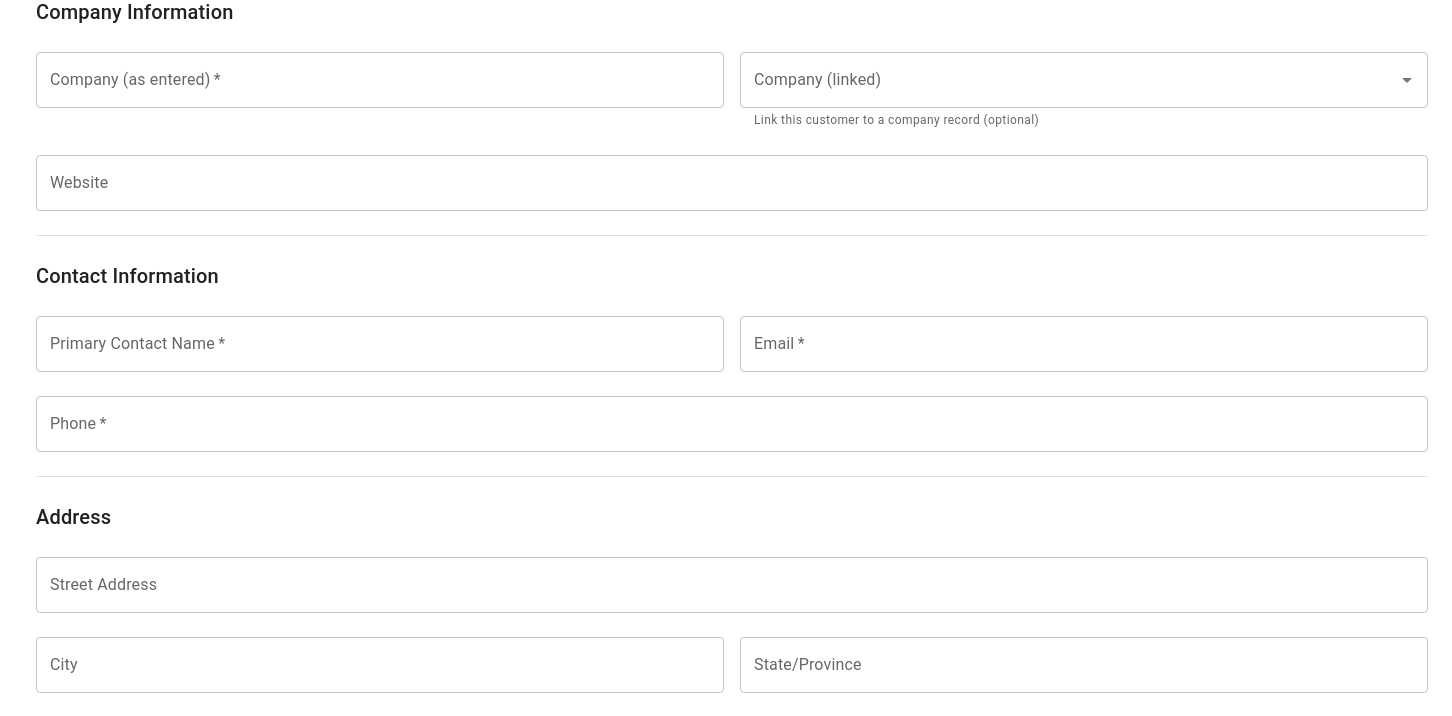
Test: CustomerForm linked company › create mode › puts an INVALID_REFERENCE message on the linked-company picker
The width and height of the screenshot is (1452, 716).
Press the mouse on the dropdown labelled "Company (linked)" at (1069, 80), box [749,61,1389,99]
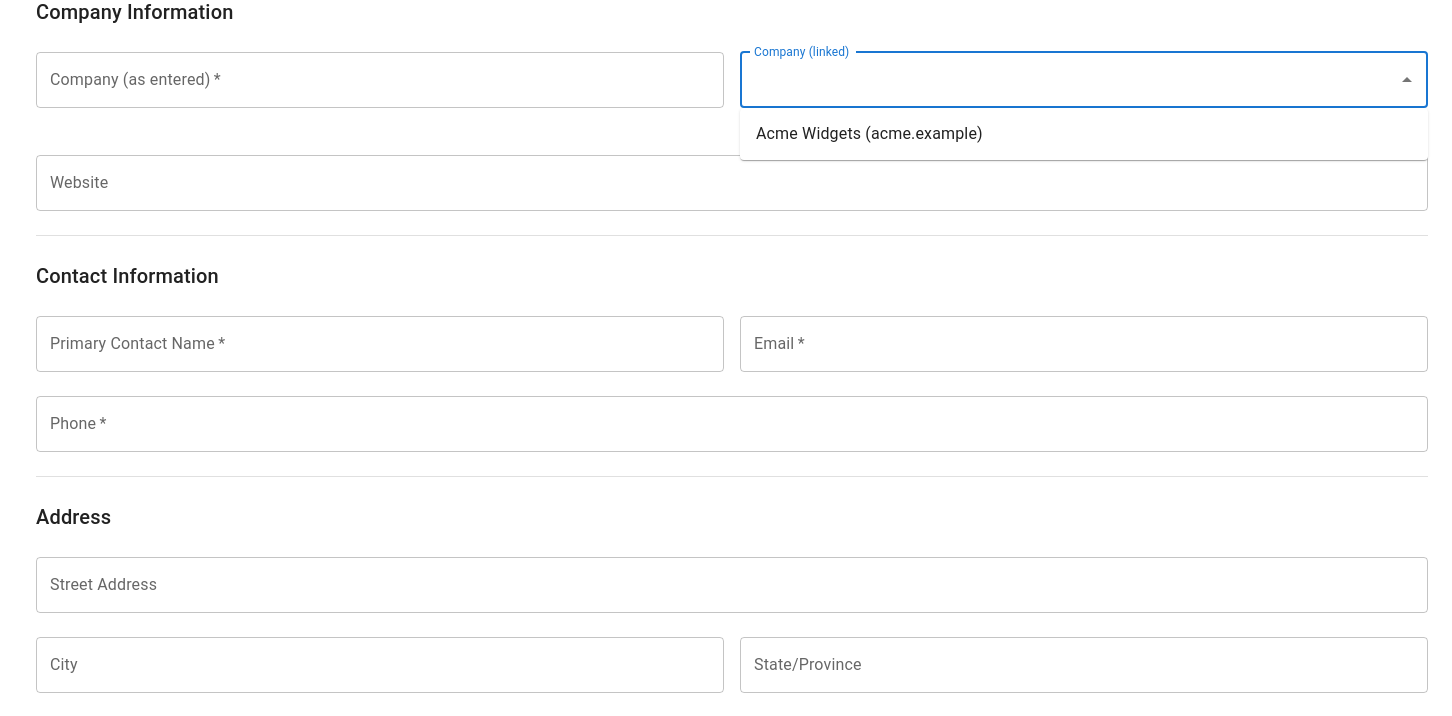
Click the option "Acme Widgets (acme.example)" at (869, 134), box [756,124,983,143]
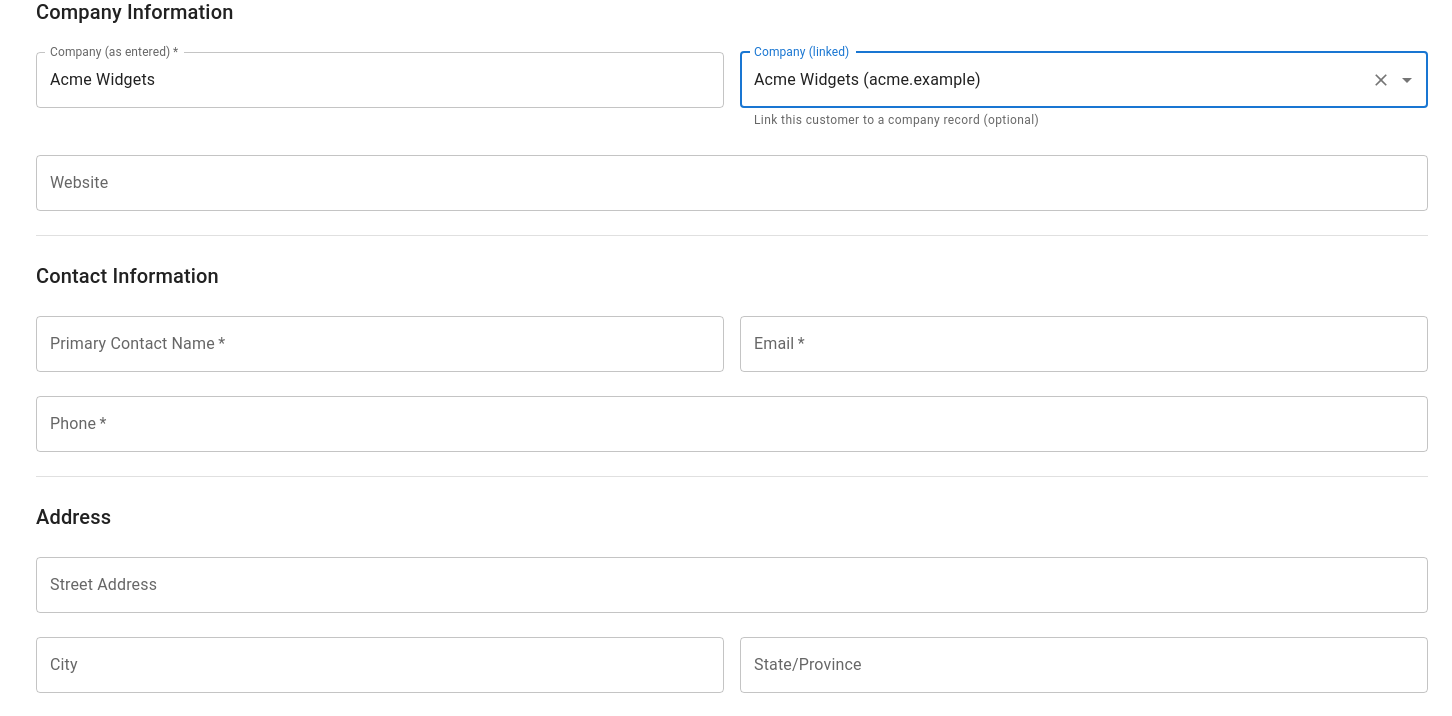
Expected: the dropdown labelled "Company (linked)" holds "Acme Widgets (acme.example)", [749,61,1363,99]
Type "Jane Smith" into the field labelled "Primary Contact Name *" at (380, 344), box [36,316,724,372]
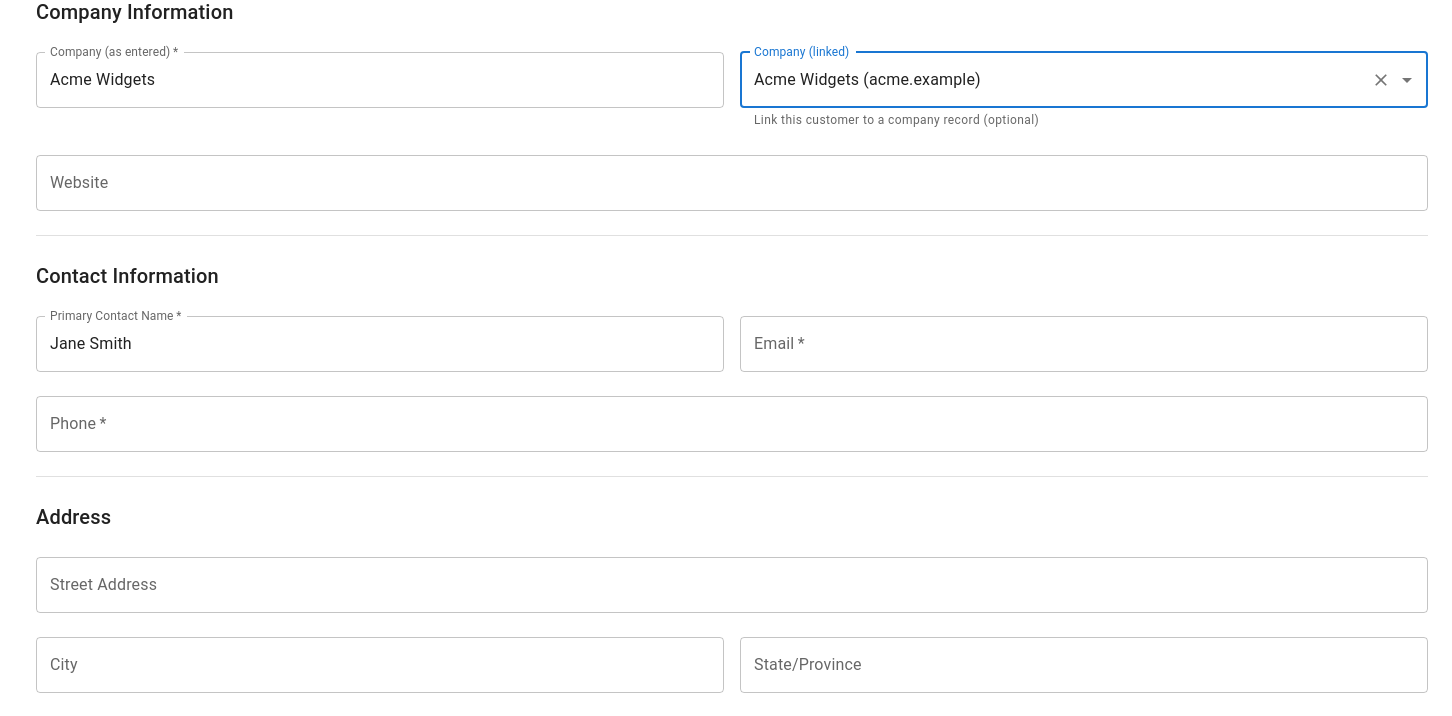
Type "jane@acme.example" into the field labelled "Email *" at (1084, 344), box [740,316,1428,372]
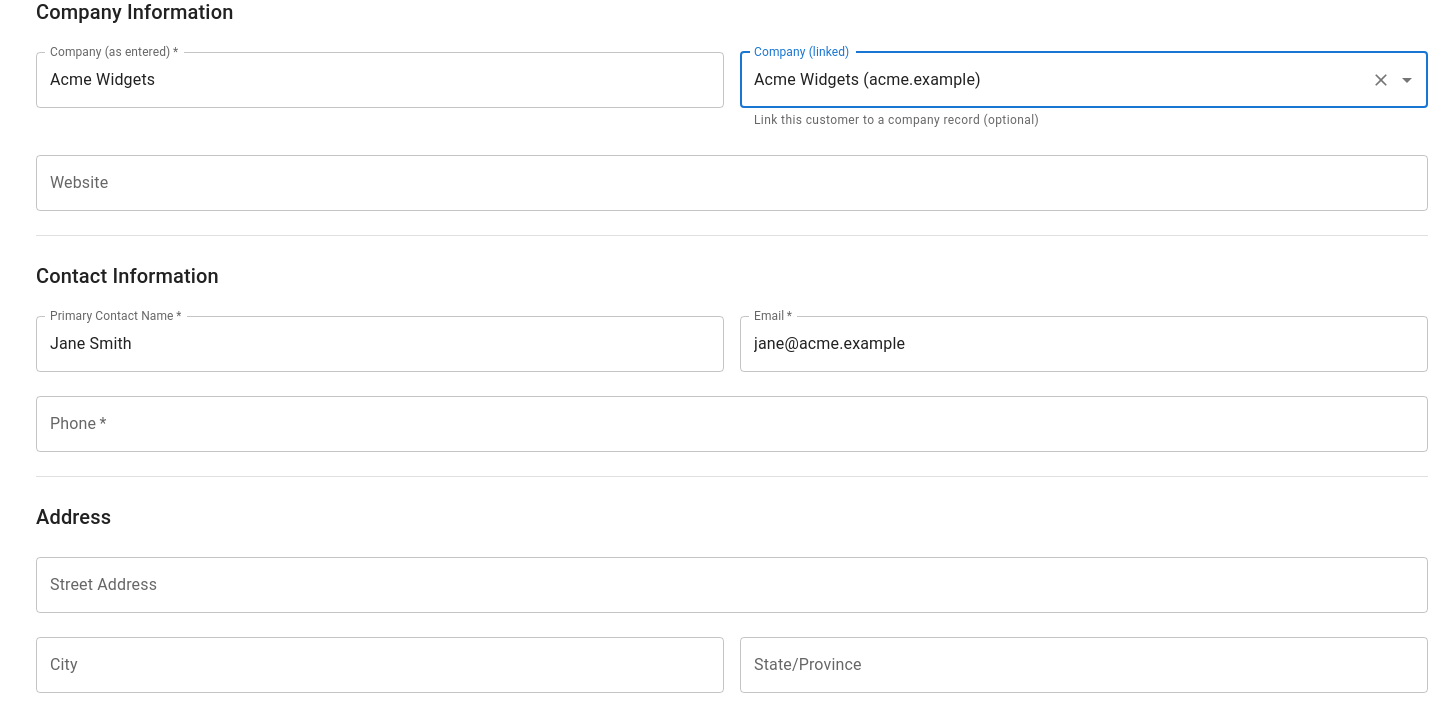
Type "+40 21 555 0100" into the field labelled "Phone *" at (732, 424), box [36,396,1428,452]
(page scrolled)
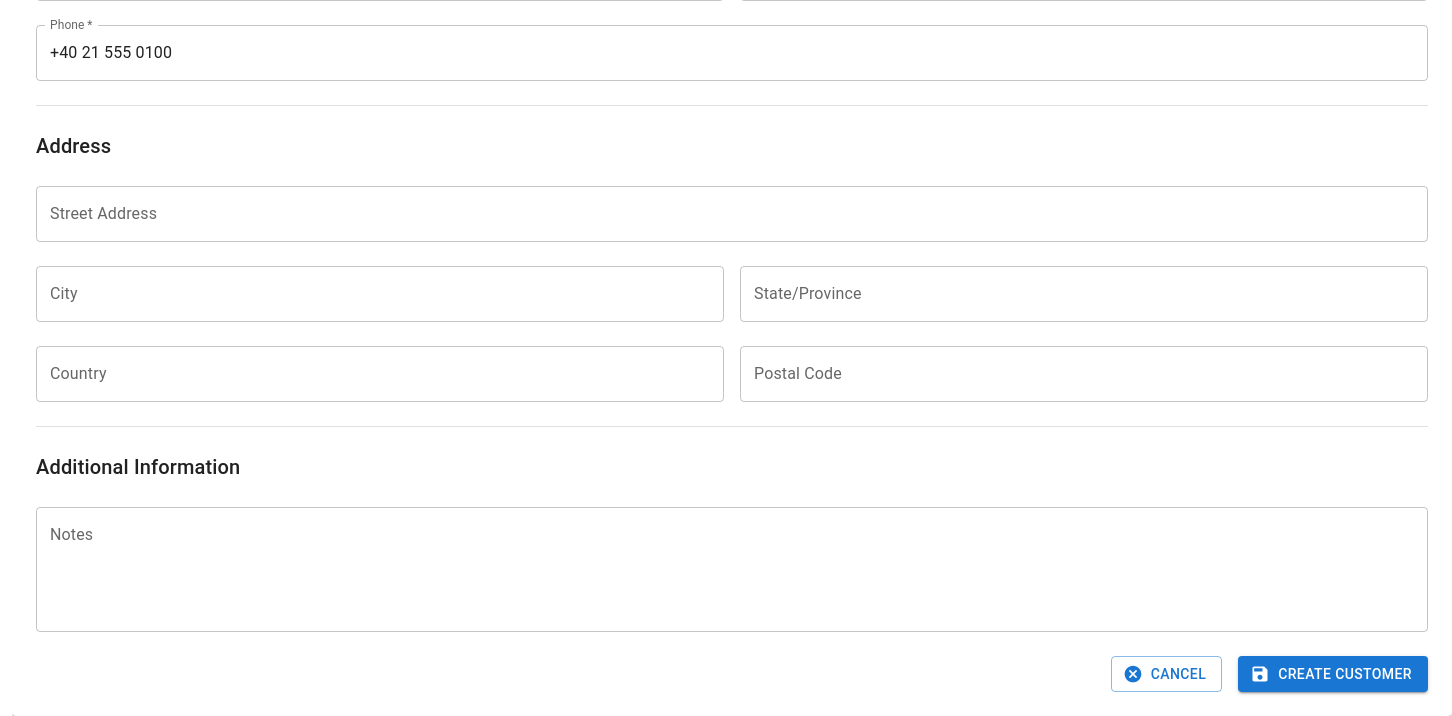
Click the button "Create Customer" at (1333, 674), box [1238,656,1428,692]
(page scrolled)
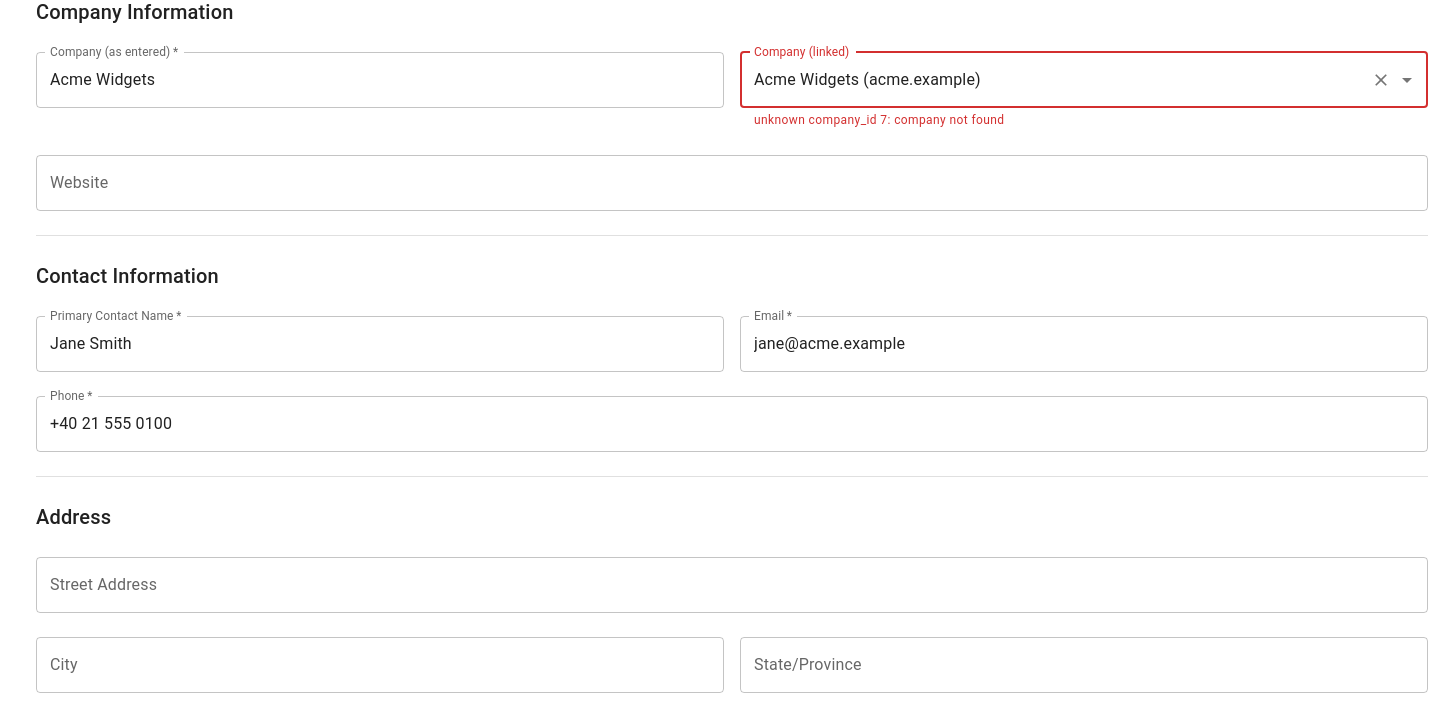
Expected: the text "unknown company_id 7: company not found" is shown, [754,113,1004,127]
